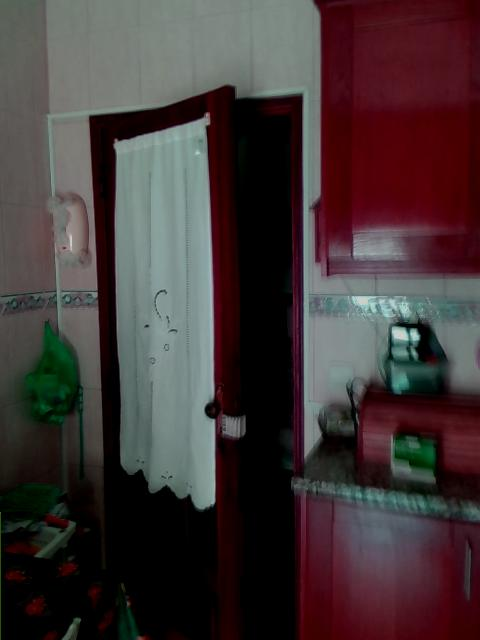semi_door: (84, 83, 306, 639)
